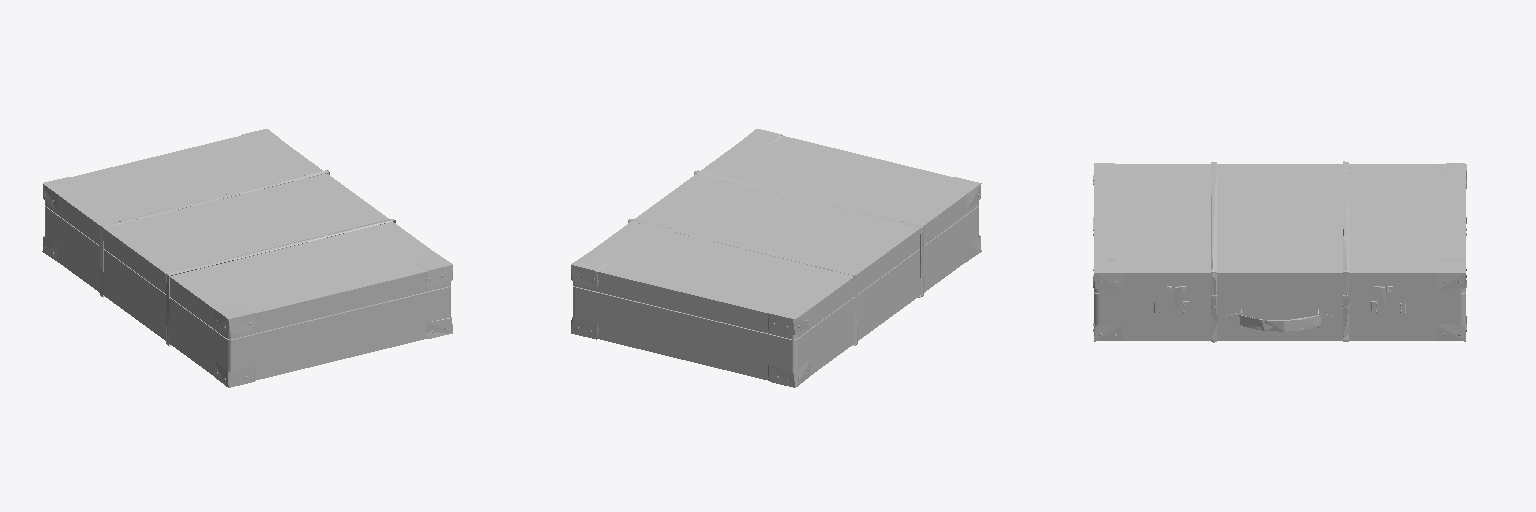
The model's file is SuitCasePainted.obj.
3 views of the same model, side by side, from view 1: azimuth 30°, elevation 25°; view 2: azimuth 150°, elevation 25°; view 3: azimuth 270°, elevation 25° (orthographic).
Visible parts, largest first — view 1: SuitCaseOpener_Cube.002, SuitCaseBody_Cube.001, CornersBase.001_Cube.009, BezierCircle.002; view 2: SuitCaseOpener_Cube.002, SuitCaseBody_Cube.001, CornersBase.001_Cube.009, BezierCircle.002; view 3: SuitCaseOpener_Cube.002, SuitCaseBody_Cube.001, CornersBase.001_Cube.009, BezierCircle.002, Sphere.013_Sphere.014, Plane.
Part boxes in pixels (bbox=[...]): SuitCaseOpener_Cube.002: bbox=[45, 136, 450, 339]; SuitCaseBody_Cube.001: bbox=[45, 206, 450, 380]; CornersBase.001_Cube.009: bbox=[42, 129, 452, 387]; BezierCircle.002: bbox=[100, 170, 395, 346]; SuitCaseOpener_Cube.002: bbox=[573, 136, 978, 339]; SuitCaseBody_Cube.001: bbox=[573, 206, 978, 380]; CornersBase.001_Cube.009: bbox=[571, 129, 981, 387]; BezierCircle.002: bbox=[628, 170, 923, 345]; SuitCaseOpener_Cube.002: bbox=[1094, 164, 1465, 293]; SuitCaseBody_Cube.001: bbox=[1094, 292, 1465, 340]; CornersBase.001_Cube.009: bbox=[1093, 163, 1466, 341]; BezierCircle.002: bbox=[1211, 161, 1349, 342]; Sphere.013_Sphere.014: bbox=[1093, 269, 1466, 335]; Plane: bbox=[1239, 315, 1320, 331].
Size of the model in its own units: 3.9 by 1.11 by 5.17.